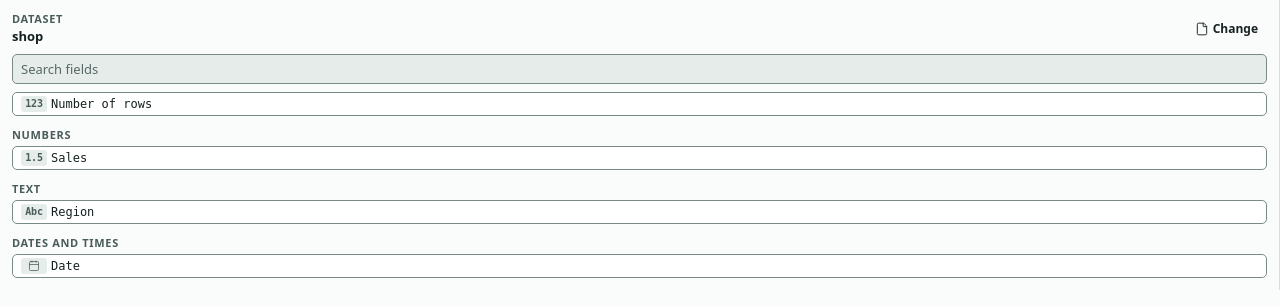
Scenario: FieldList › only offers to count rows in the wells that take a value
This screenshot has width=1280, height=307.
Click the button named "Add Number of rows": {"x": 102, "y": 104} [12,92,1267,116]
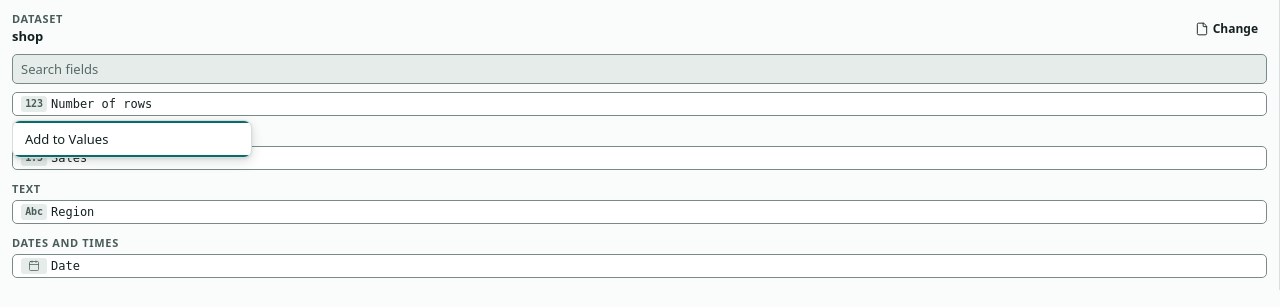
Now the menu items read "Add to Values", in this order, box [13,125,251,153]
